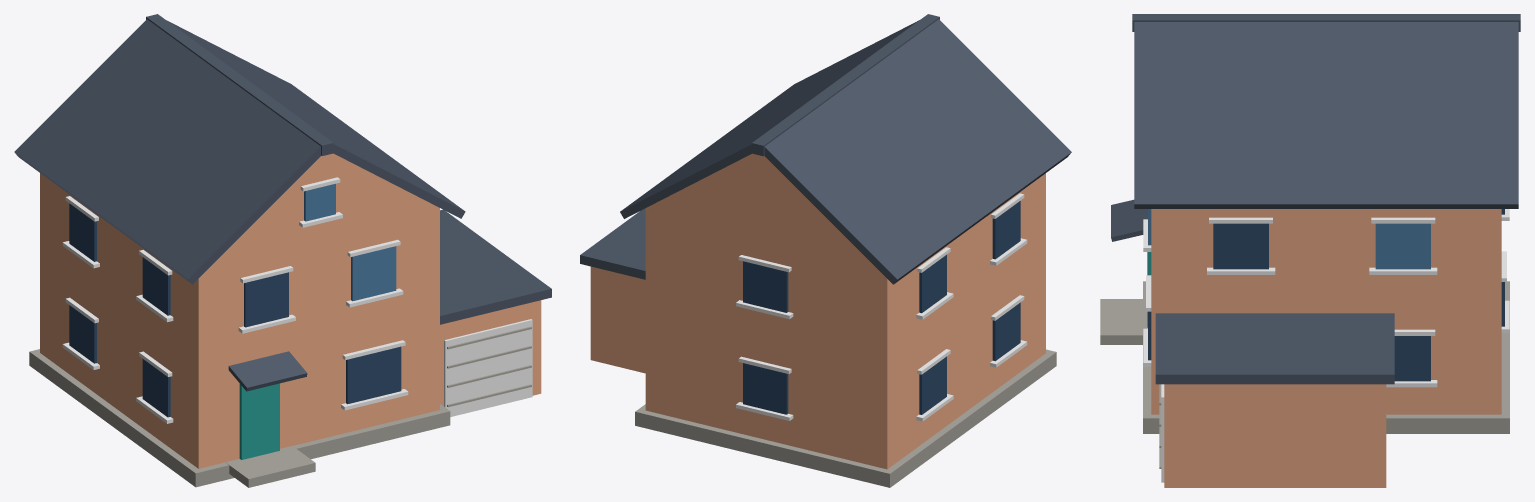
Rendered from House_TwoStory.glb.
3 renders of one model, left to right at view 1: azimuth 30°, elevation 25°; view 2: azimuth 150°, elevation 25°; view 3: azimuth 270°, elevation 25°, orthographic. The views are drawn at different scales.
Visible parts, largest first — view 1: House_TwoStory_Mesh; view 2: House_TwoStory_Mesh; view 3: House_TwoStory_Mesh.
Part boxes in pixels (bbox=[...]): House_TwoStory_Mesh: bbox=[14, 14, 551, 487]; House_TwoStory_Mesh: bbox=[580, 14, 1071, 487]; House_TwoStory_Mesh: bbox=[1100, 14, 1520, 487].
Bounding box in the file's own units: 11.14 × 9 × 9.85.
1 material, 1 textured.
